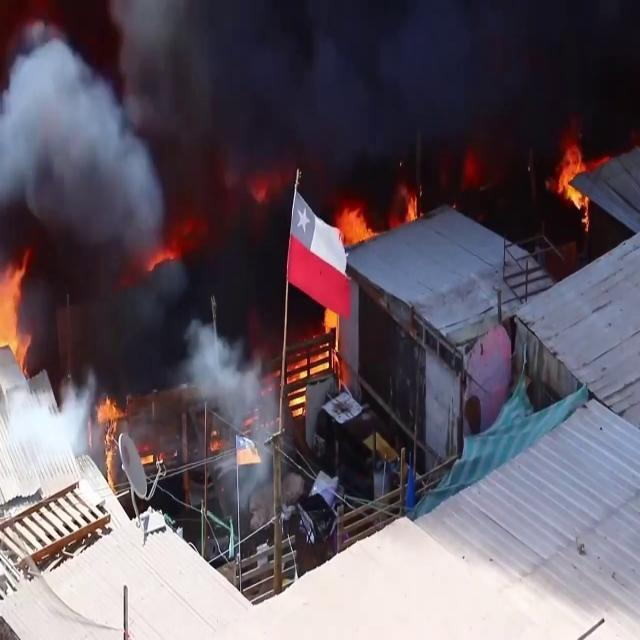Fire: (550, 133, 594, 232), (0, 248, 33, 372), (94, 387, 128, 488), (334, 195, 376, 248), (402, 182, 422, 227)
Smoke: (7, 0, 289, 474), (212, 0, 578, 224)
